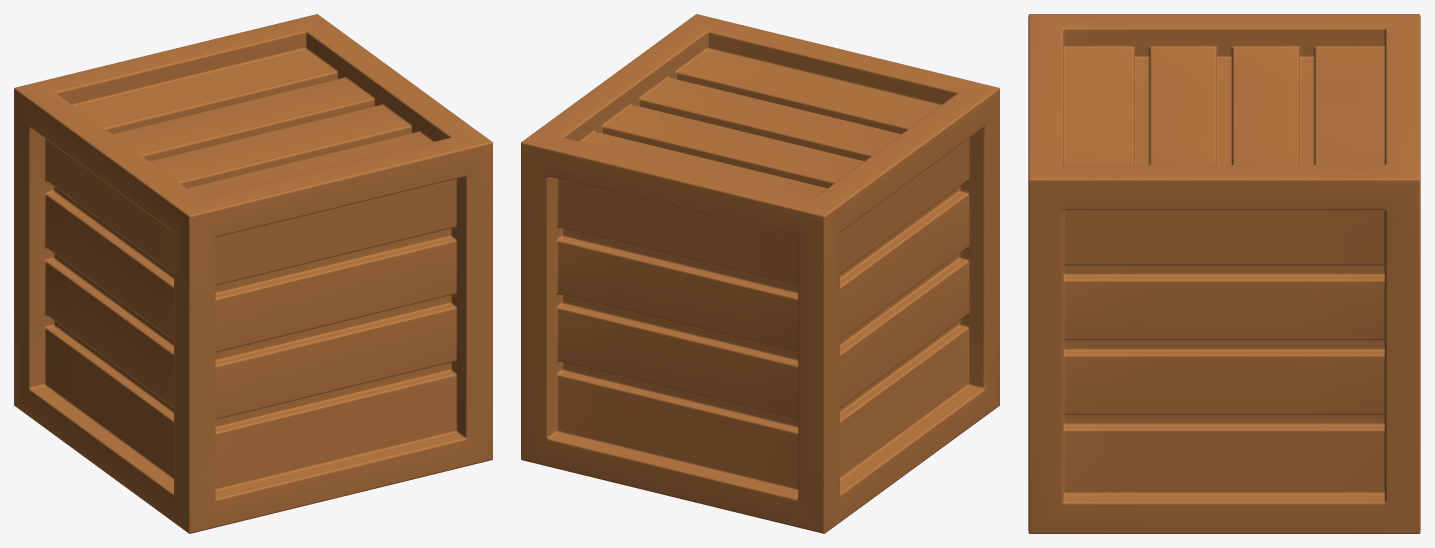
3 views of the same model, side by side, from view 1: azimuth 30°, elevation 25°; view 2: azimuth 150°, elevation 25°; view 3: azimuth 270°, elevation 25° (orthographic). The views are drawn at different scales.
Visible parts, largest first — view 1: box 3.003; view 2: box 3.003; view 3: box 3.003.
Part boxes in pixels (box(x1,y1,x2,y2)): box 3.003: box(14, 14, 492, 533); box 3.003: box(521, 14, 999, 533); box 3.003: box(1028, 14, 1420, 533).
Bounding box in the file's own units: 60.06 × 60.06 × 60.06.
